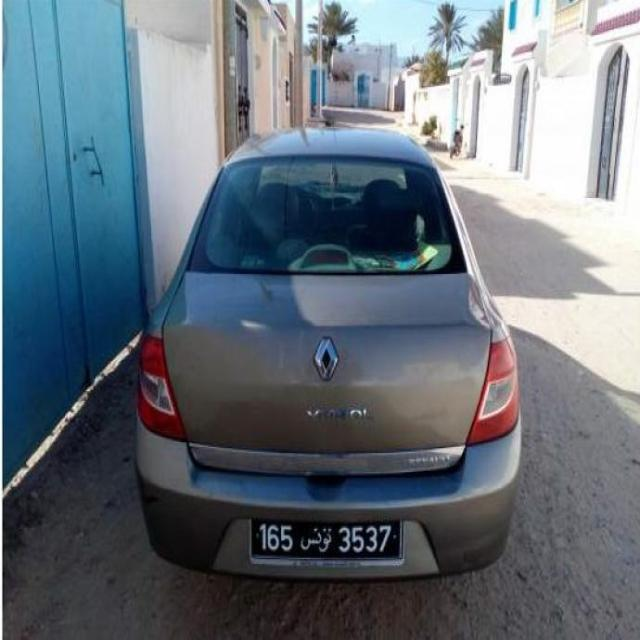LP: (246, 512, 405, 565)
